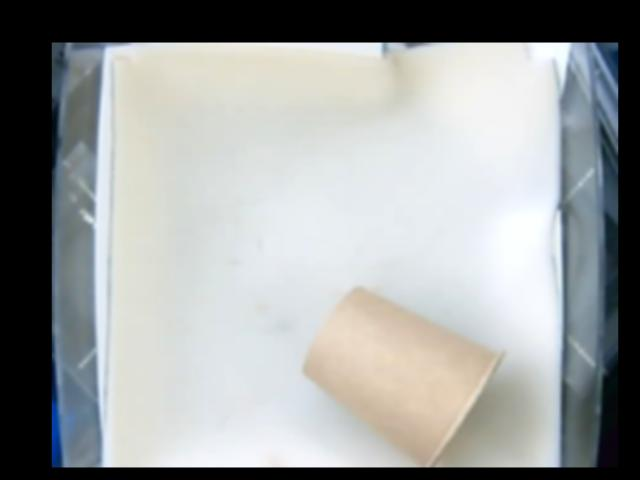Cup: (299, 286, 503, 466)
